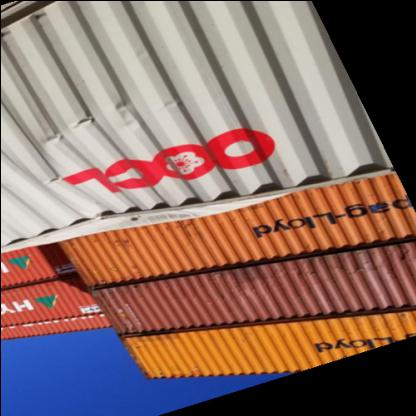Damage: (30, 82, 222, 237)
